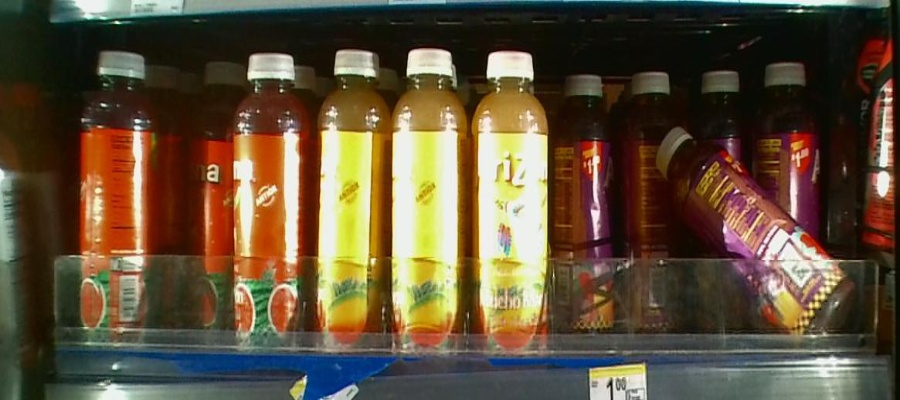bottle: (474, 37, 555, 355), (392, 41, 472, 356), (309, 44, 390, 351), (76, 47, 158, 350), (230, 51, 306, 355), (690, 64, 759, 357), (764, 58, 824, 366), (616, 63, 682, 336), (556, 58, 616, 356), (183, 61, 229, 339)
